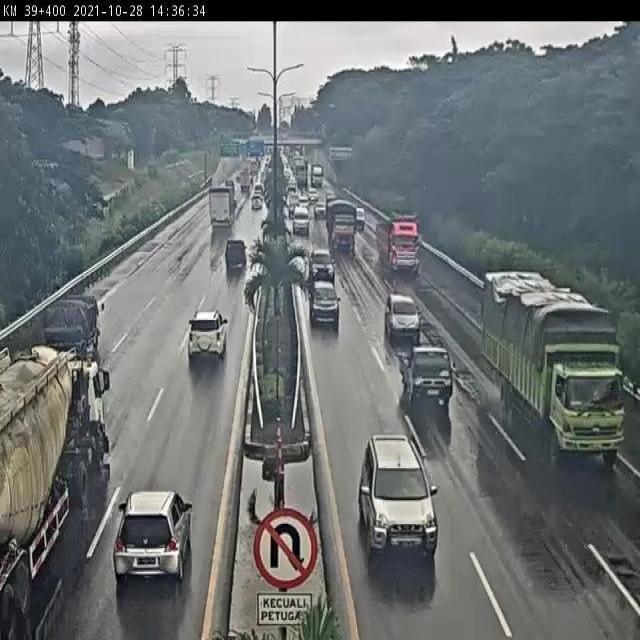Car: (357, 433, 439, 558), (112, 488, 192, 586), (402, 344, 454, 411), (186, 308, 229, 364), (384, 294, 420, 346), (309, 279, 341, 329), (310, 249, 334, 283), (225, 239, 247, 274), (292, 205, 310, 235), (311, 164, 323, 188), (314, 197, 326, 218), (288, 192, 298, 217), (252, 182, 264, 200), (356, 207, 365, 230), (286, 179, 296, 196), (308, 189, 318, 205)
Truck: (0, 333, 110, 640), (482, 272, 623, 475), (375, 215, 421, 278), (208, 183, 240, 230), (292, 156, 306, 184)
